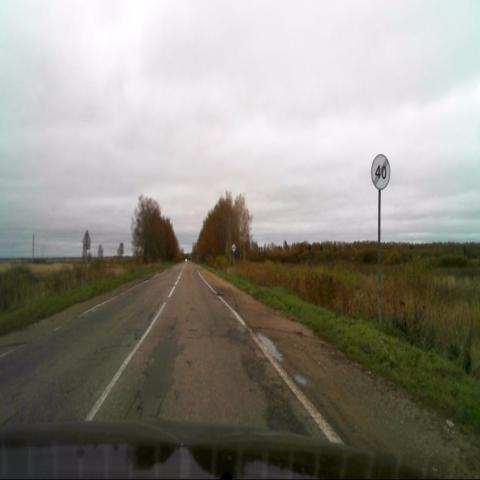3_25: (371, 154, 391, 190)
